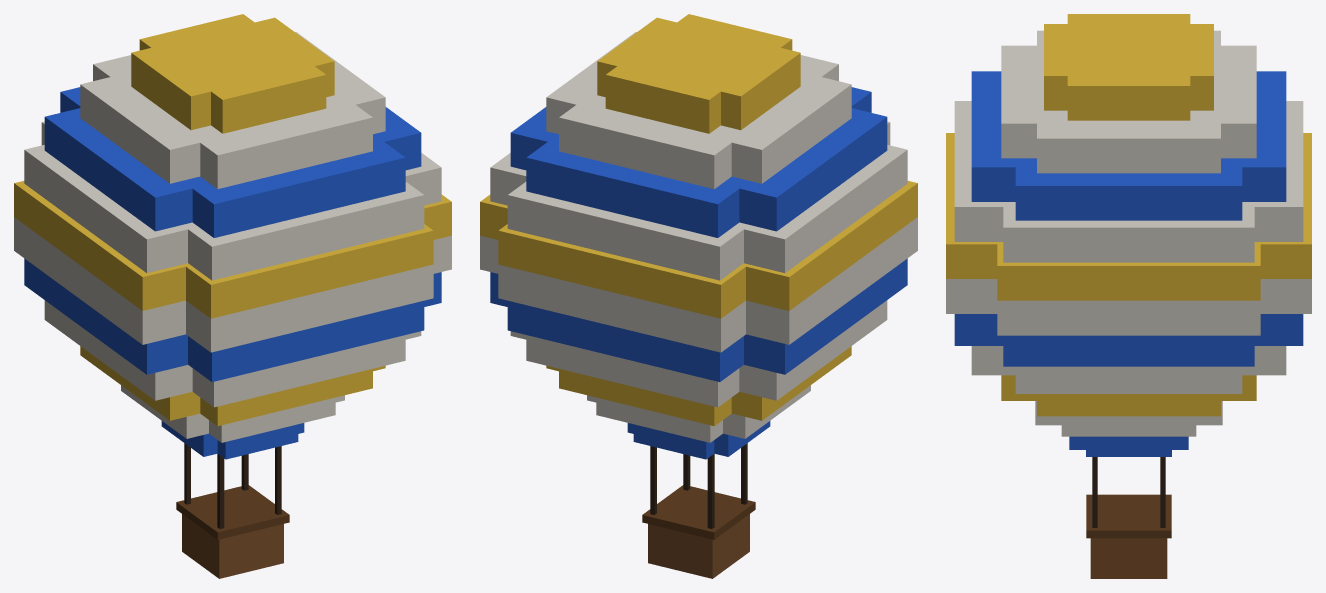
Rendered from tt-balloon-blue.glb.
3 renders of one model, left to right at view 1: azimuth 30°, elevation 25°; view 2: azimuth 150°, elevation 25°; view 3: azimuth 270°, elevation 25°, orthographic. The views are drawn at different scales.
Parts seen in each view (by area): view 1: box-prop; view 2: box-prop; view 3: box-prop.
Part boxes in pixels (x1,y1,x2,y2): box-prop: [14, 14, 451, 578]; box-prop: [480, 14, 917, 578]; box-prop: [946, 14, 1311, 578].
Size of the model in its own units: 4.3 by 6.65 by 4.3.
